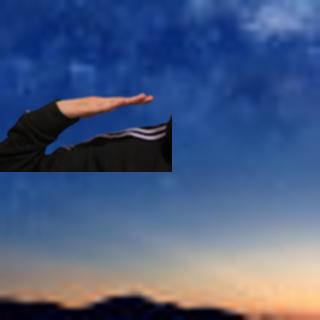Wait: (59, 89, 157, 123)
